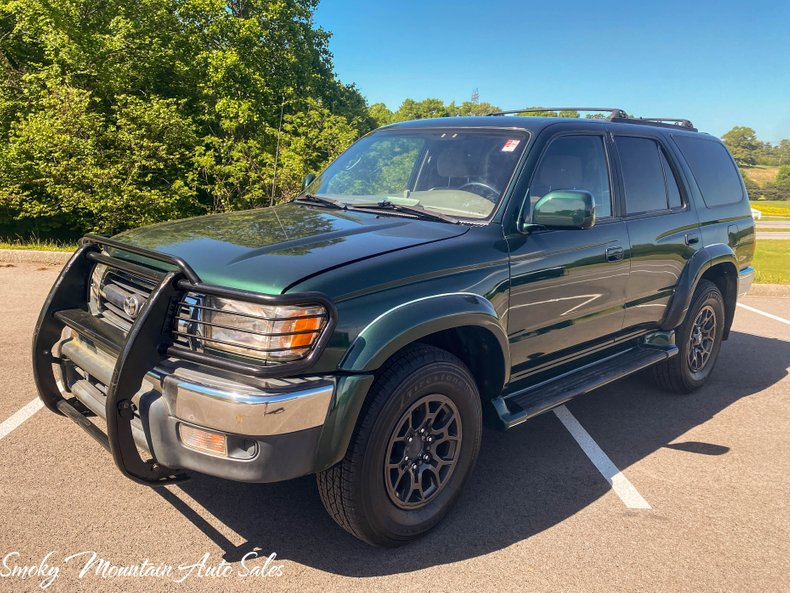car: (26, 109, 763, 554)
